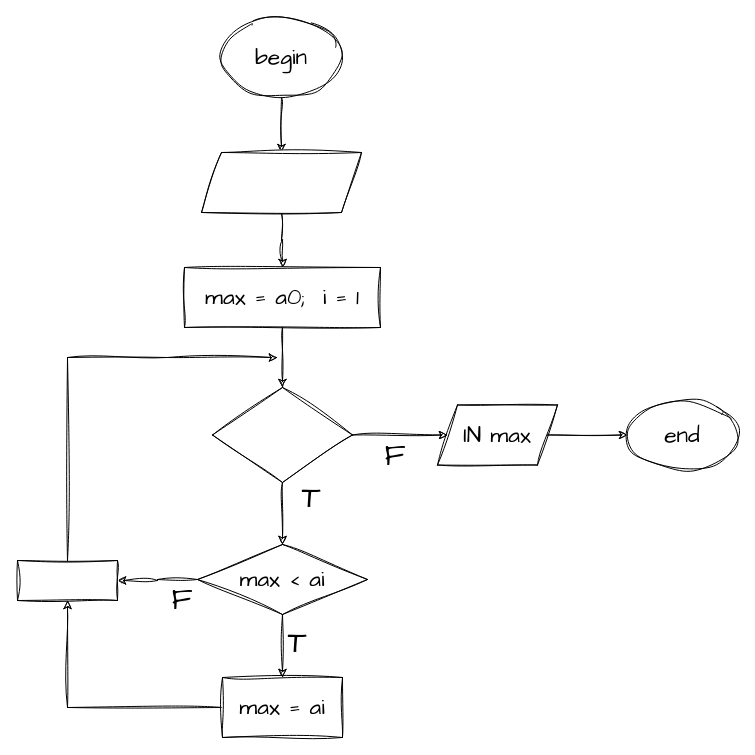
Some shapes in this 755 by 755 pixel diagram are drawn without their labels. Here are the shapes that lost their labels. From the top down, the centre of each, then its label:
At [281,182]: "Nhap N, ai".
At [282,434]: "i < N".
At [67,580]: "i ++".
